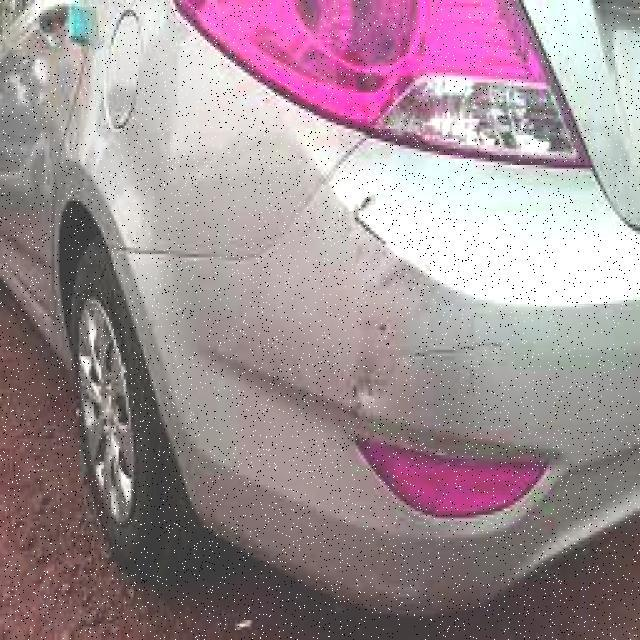car damage: (329, 174, 536, 435)
